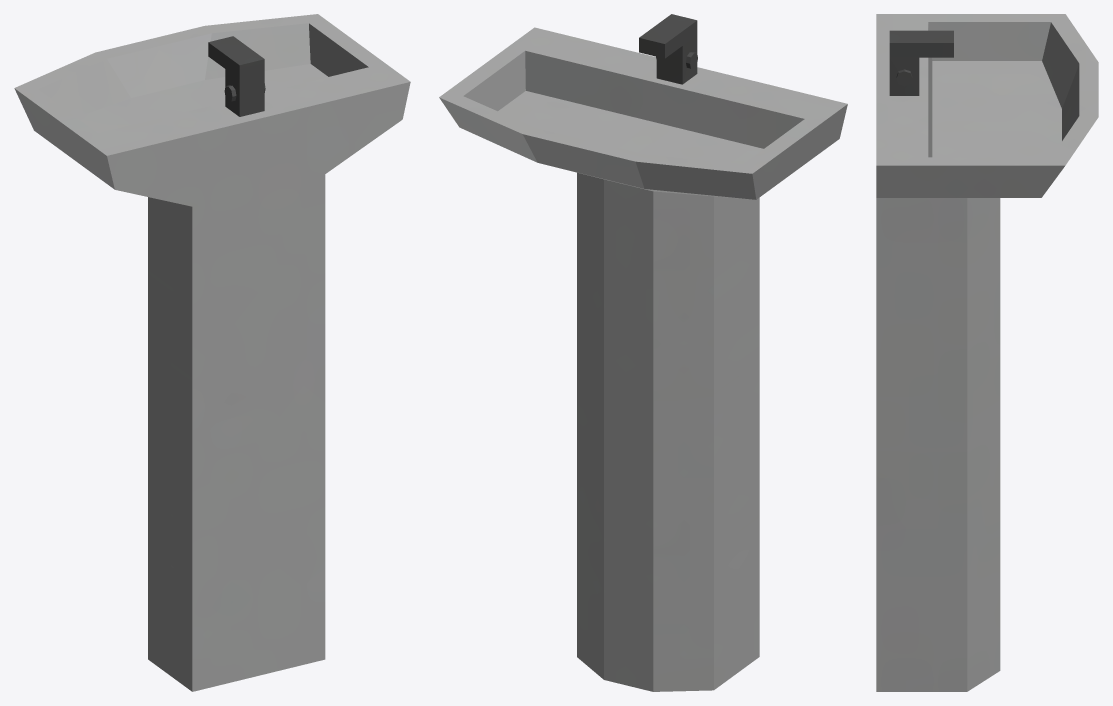
File: Sink.fbx
3 views of the same model, side by side, from view 1: azimuth 30°, elevation 25°; view 2: azimuth 150°, elevation 25°; view 3: azimuth 270°, elevation 25° (orthographic). The views are drawn at different scales.
Visible parts, largest first — view 1: Sink; view 2: Sink; view 3: Sink.
Part boxes in pixels (x1,y1,x2,y2): Sink: (14, 14, 410, 691); Sink: (439, 14, 847, 691); Sink: (876, 14, 1098, 691).
Bounding box in the file's own units: 52.13 × 99.82 × 32.35.
